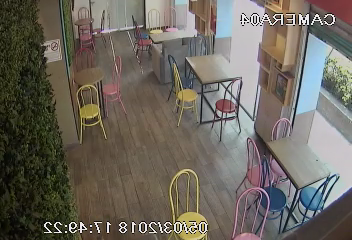libre: (243, 117, 352, 236), (166, 40, 255, 136), (58, 47, 129, 131), (126, 2, 202, 64), (68, 1, 117, 51)
